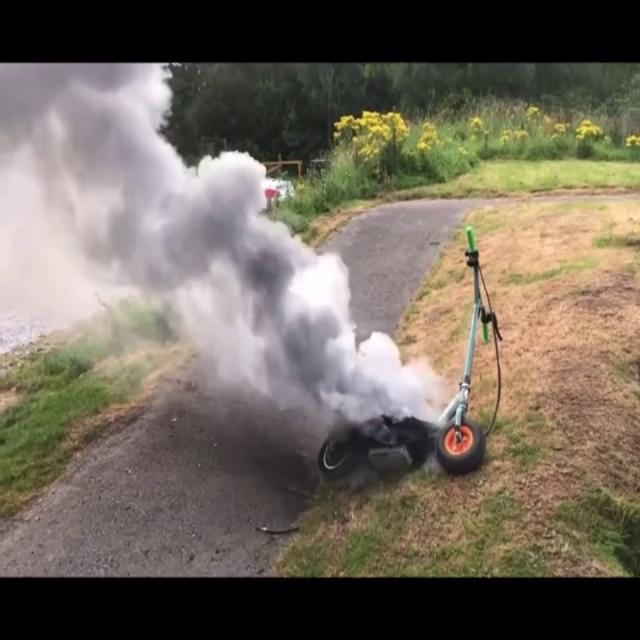Smoke: (1, 64, 356, 416), (320, 318, 450, 442)
